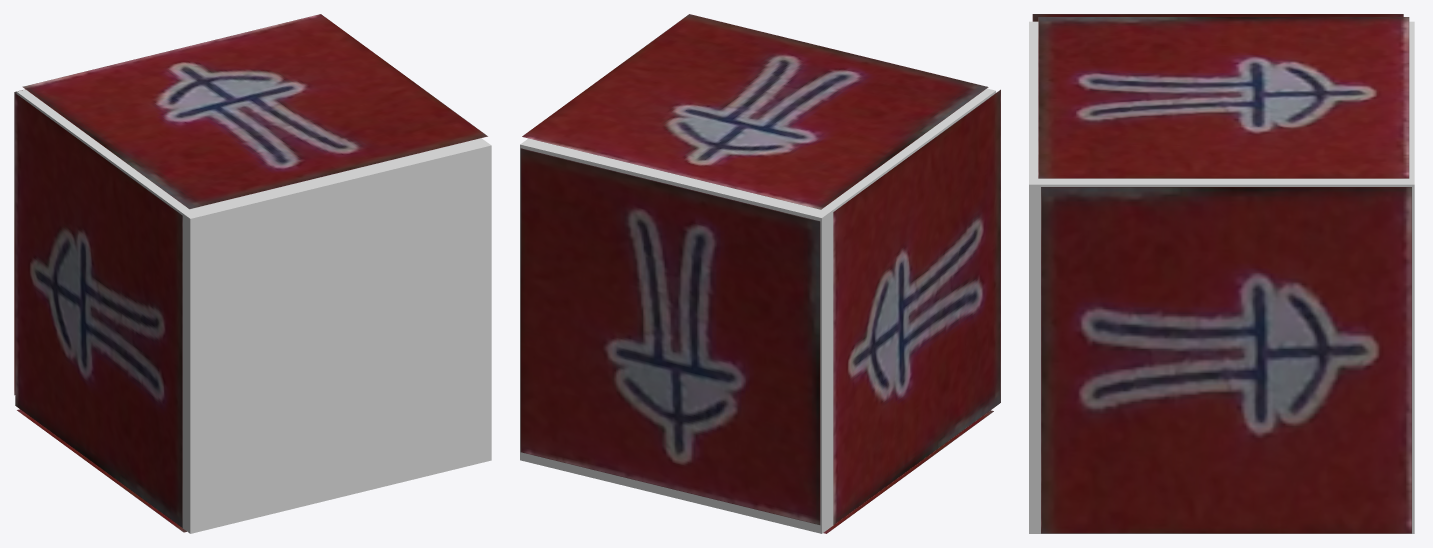
3 renders of one model, left to right at view 1: azimuth 30°, elevation 25°; view 2: azimuth 150°, elevation 25°; view 3: azimuth 270°, elevation 25°, orthographic. The views are drawn at different scales.
Visible parts, largest first — view 1: Link28, R1.002, R1.004, R1.005, R1.001; view 2: R1.001, R1.002, R1.004, Link28, R1.005; view 3: R1.003, R1.004, Link28, R1.002.
Part boxes in pixels (x1,y1,x2,y2): Link28: [16, 89, 491, 533]; R1.002: [15, 93, 182, 527]; R1.004: [22, 14, 487, 209]; R1.005: [17, 409, 186, 532]; R1.001: [14, 89, 25, 395]; R1.001: [520, 148, 820, 524]; R1.002: [833, 89, 1000, 524]; R1.004: [522, 14, 988, 209]; Link28: [520, 88, 995, 533]; R1.005: [823, 410, 993, 533]; R1.003: [1041, 187, 1411, 533]; R1.004: [1038, 17, 1409, 178]; Link28: [1029, 21, 1414, 533]; R1.002: [1032, 14, 1403, 21].
Bounding box in the file's own units: 0.3585 × 0.3539 × 0.3577.
Materials: 1 (1 with a texture image).
